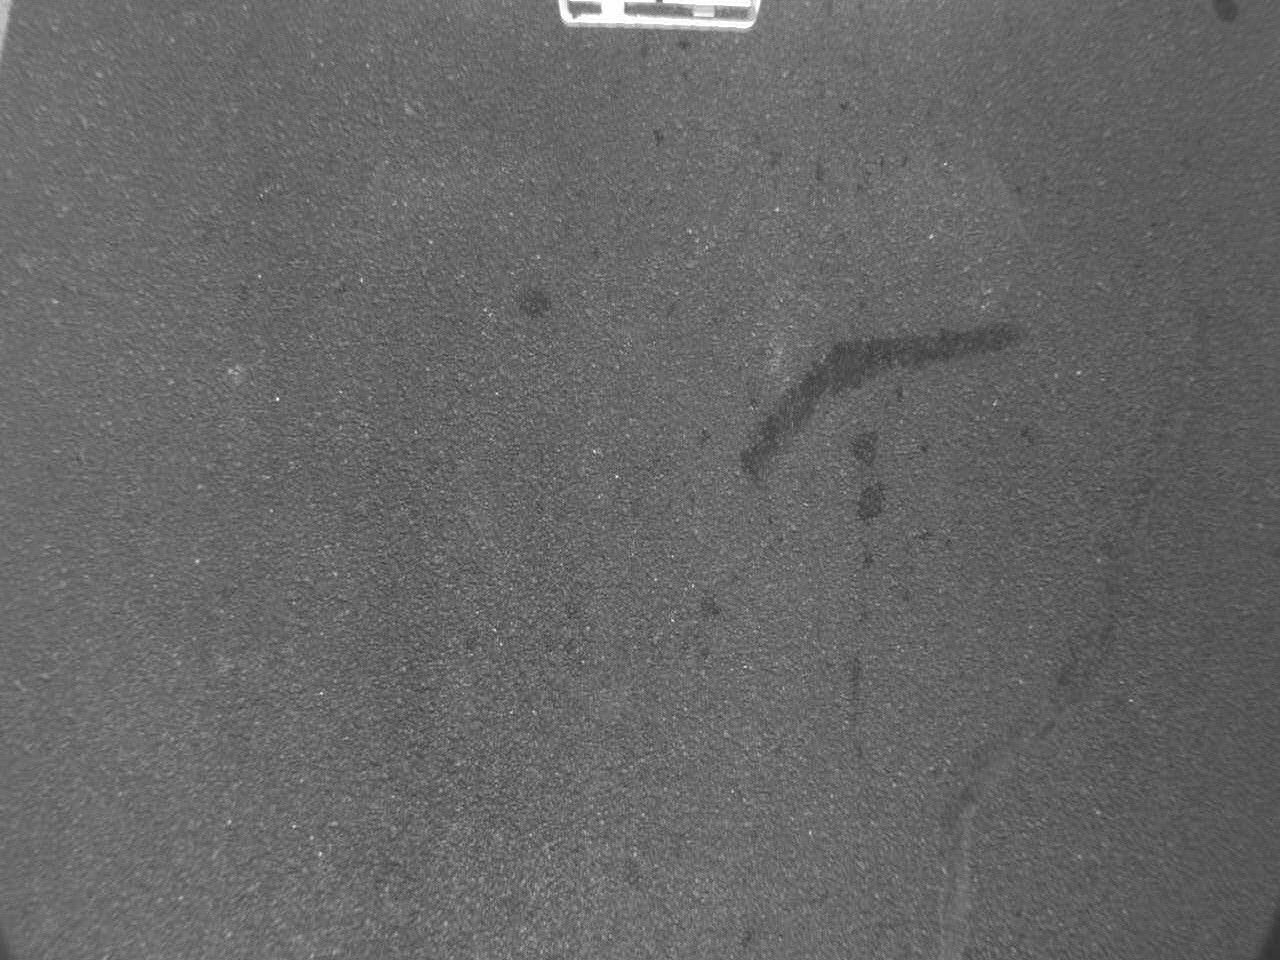sealed: (702, 298, 1013, 458)
